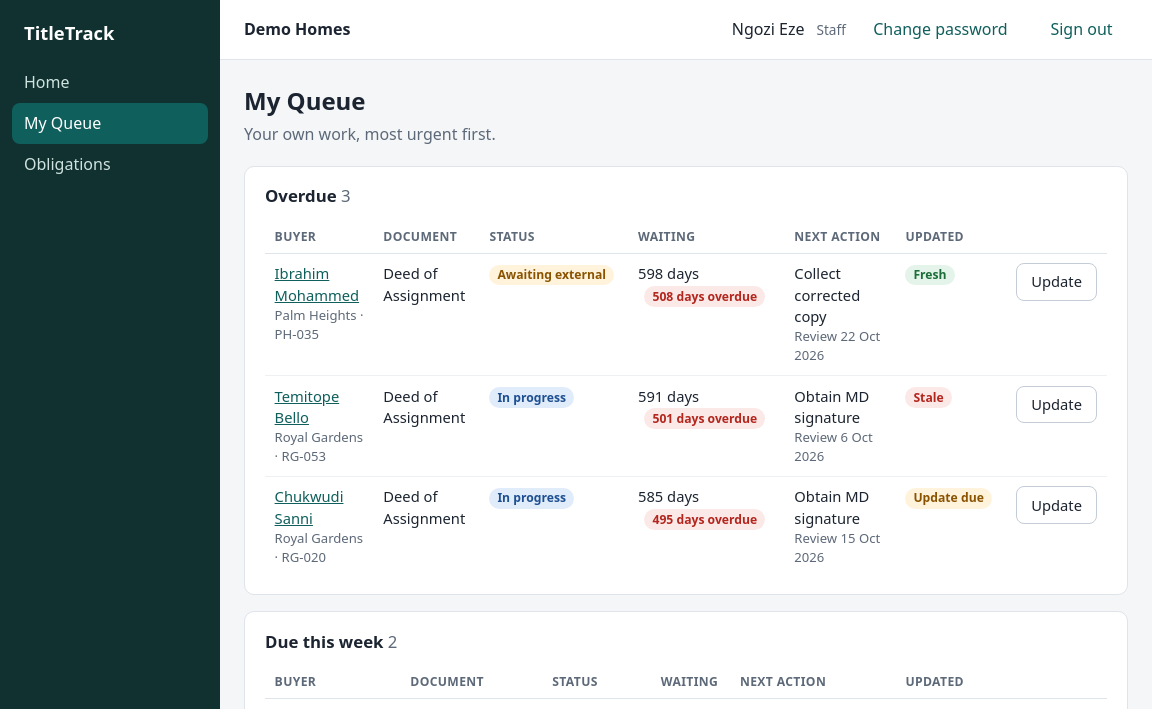
Scenario: quick update from My Queue › closes with Escape or Cancel and saves nothing
Click the button "Update" in the row of "Ibrahim Mohammed".
click(1057, 282)  # box 1016,263 -> 1097,301
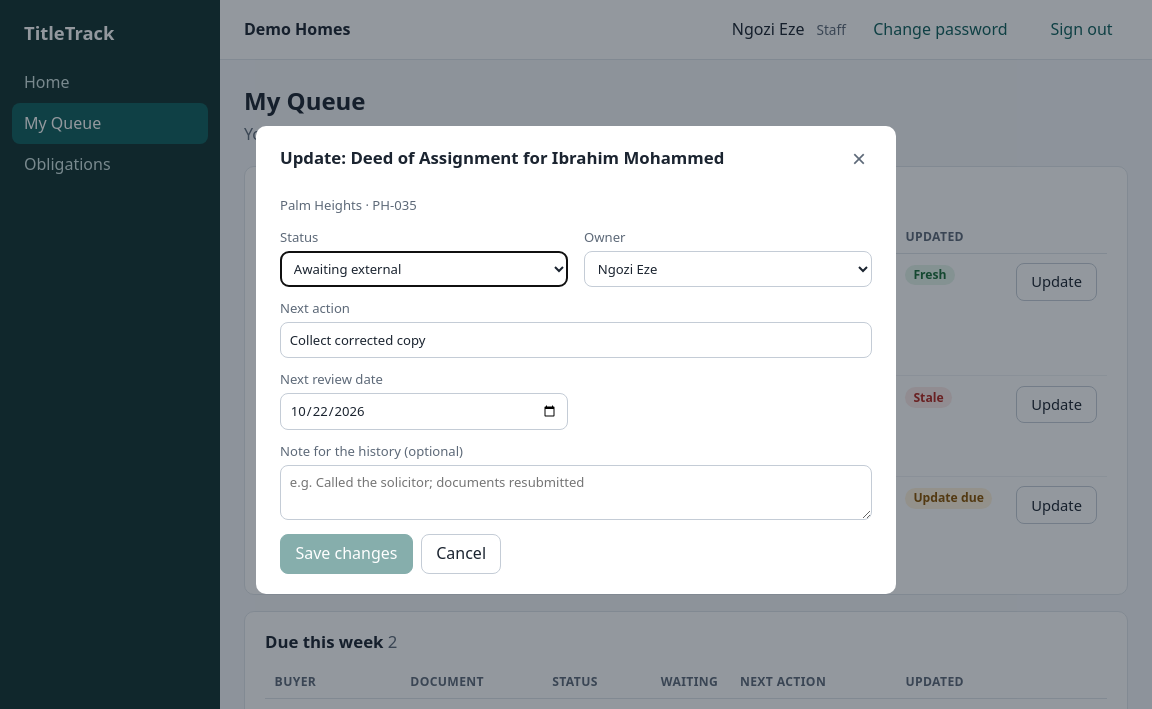
Press Escape
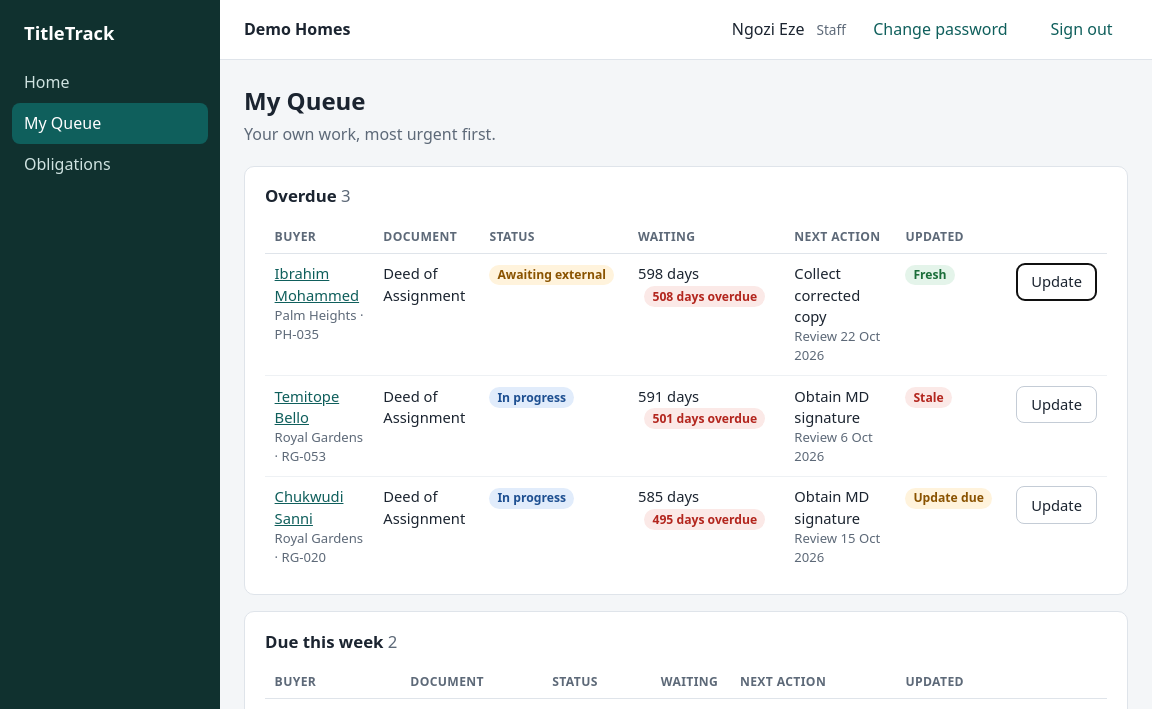
Result: the dialog is gone
Click the button "Update" in the row of "Ibrahim Mohammed".
click(1057, 282)  # box 1016,263 -> 1097,301
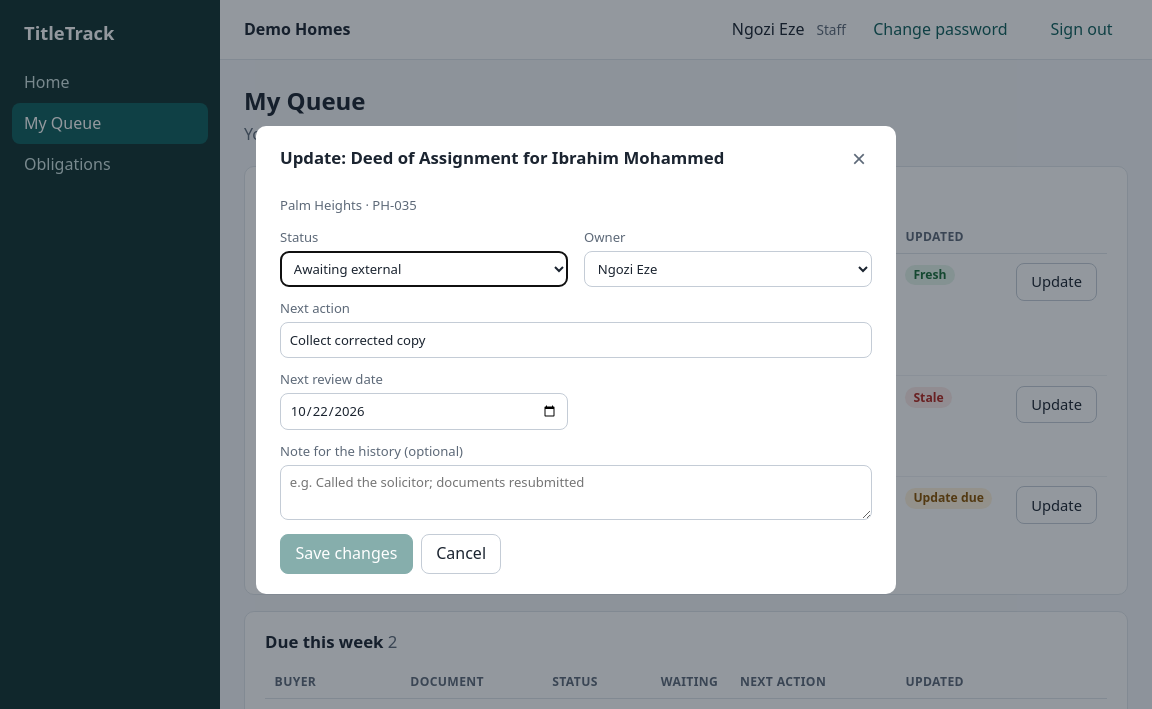
Click the button "Cancel".
click(461, 554)  # box 421,534 -> 501,574
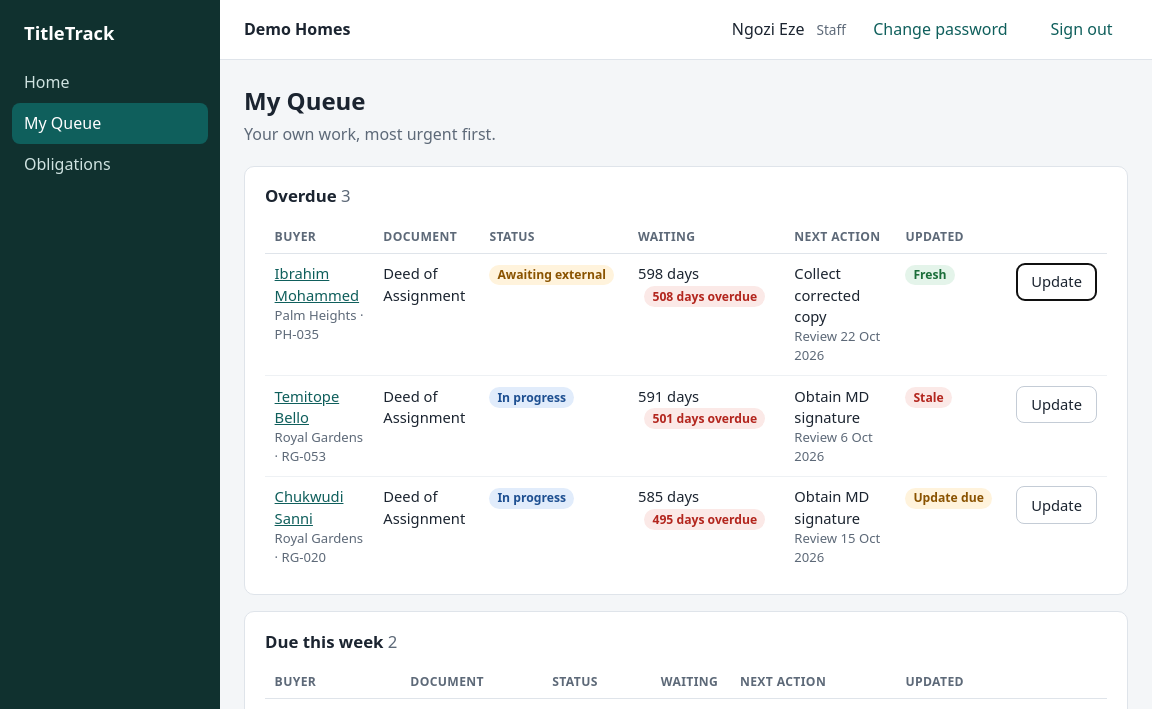
Result: the dialog is gone
